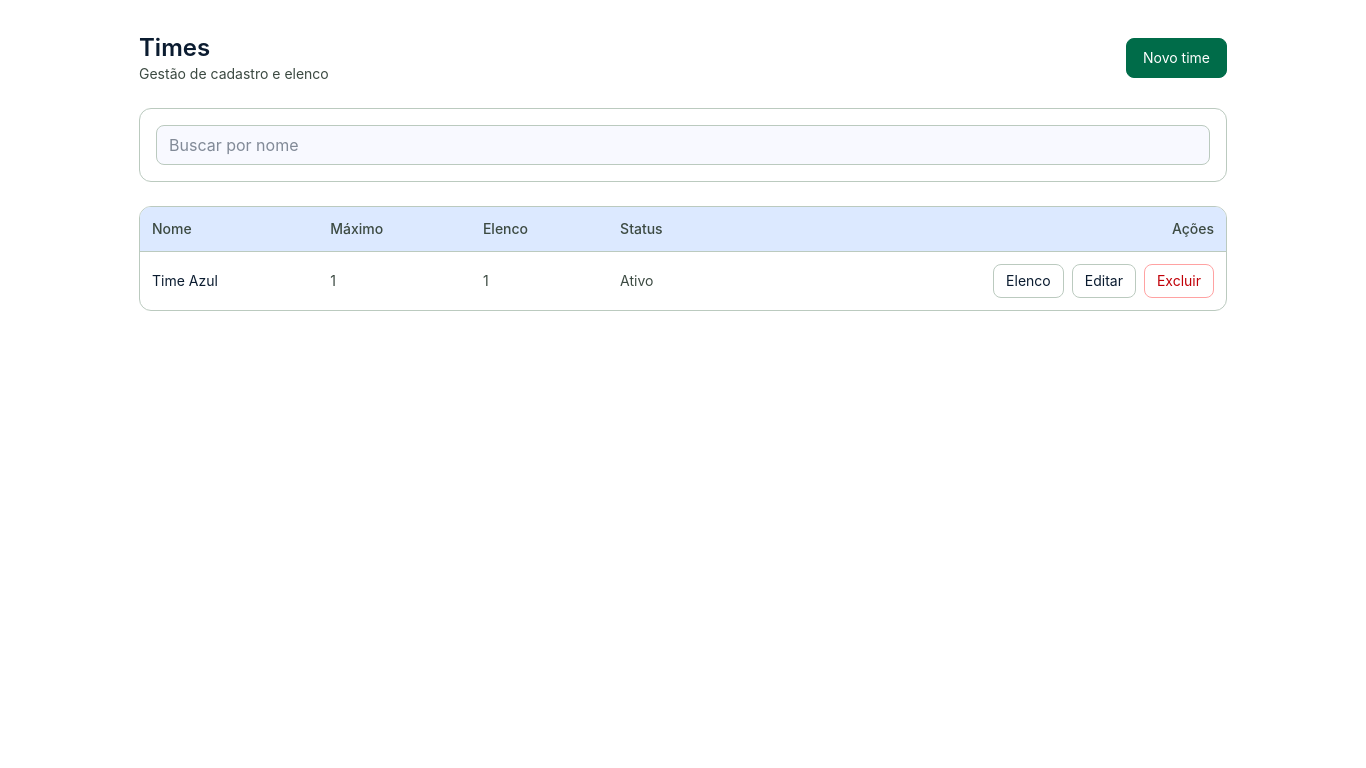
TeamsPage › deve bloquear salvamento do elenco acima do limite do time
Click the button "Elenco".
click(1028, 281)  # box left=993, top=264, right=1064, bottom=298
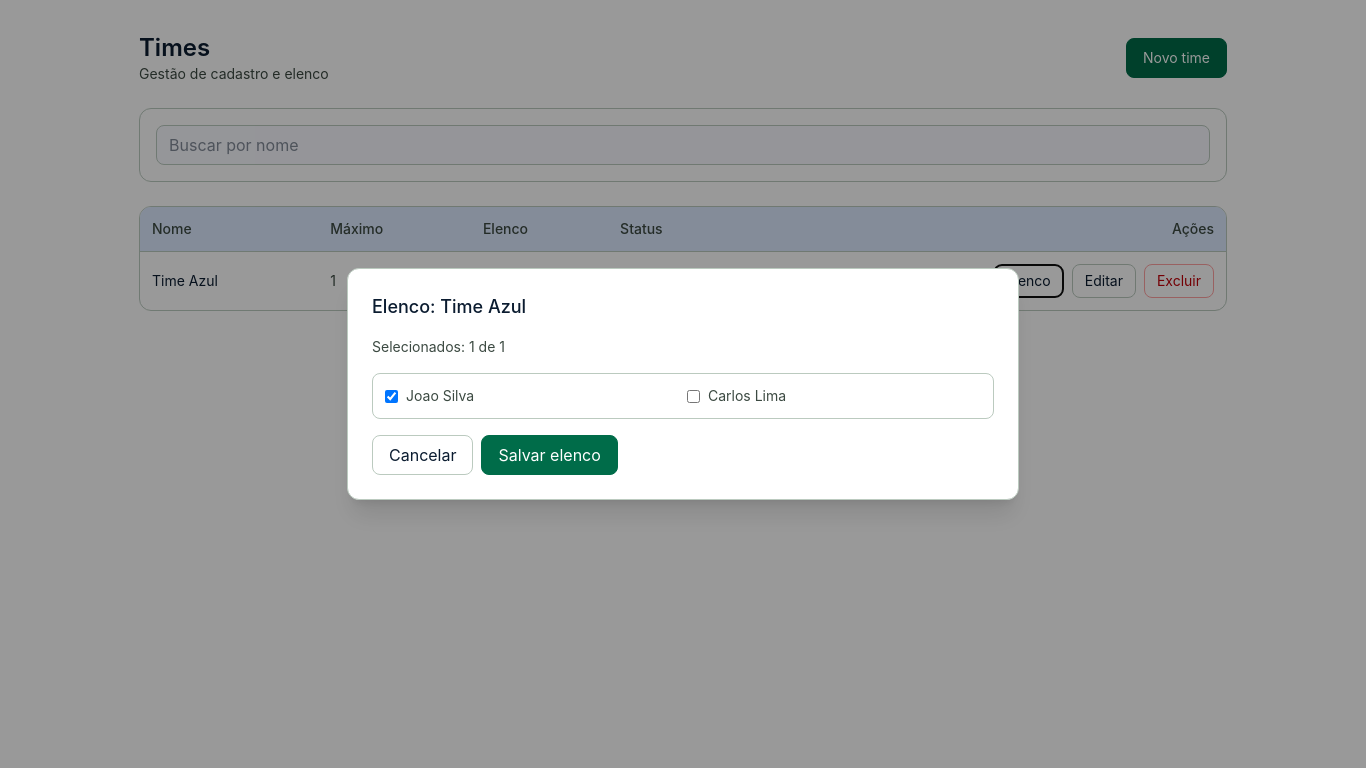
Click the checkbox labelled "Carlos Lima".
click(694, 396)  # box left=687, top=390, right=700, bottom=402
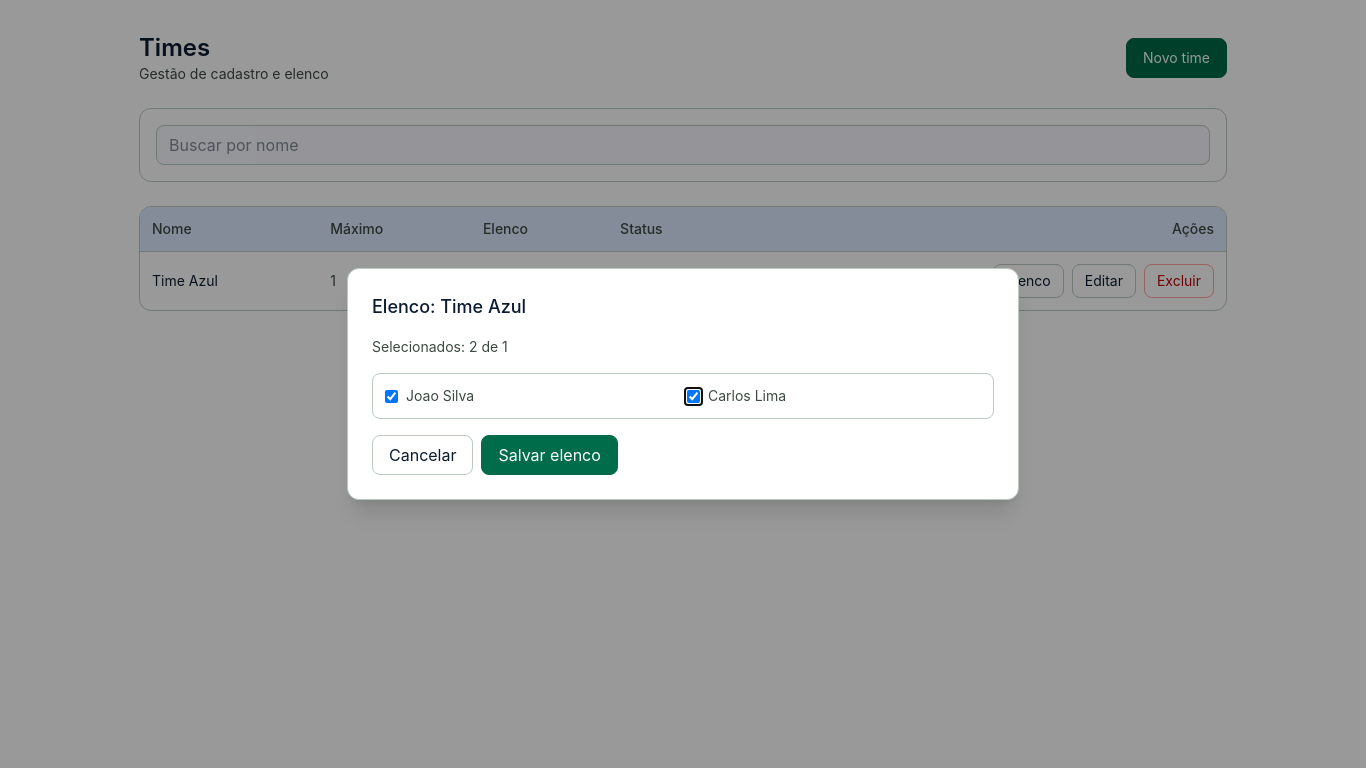
Click the button "Salvar elenco".
click(550, 455)  # box left=482, top=435, right=618, bottom=475
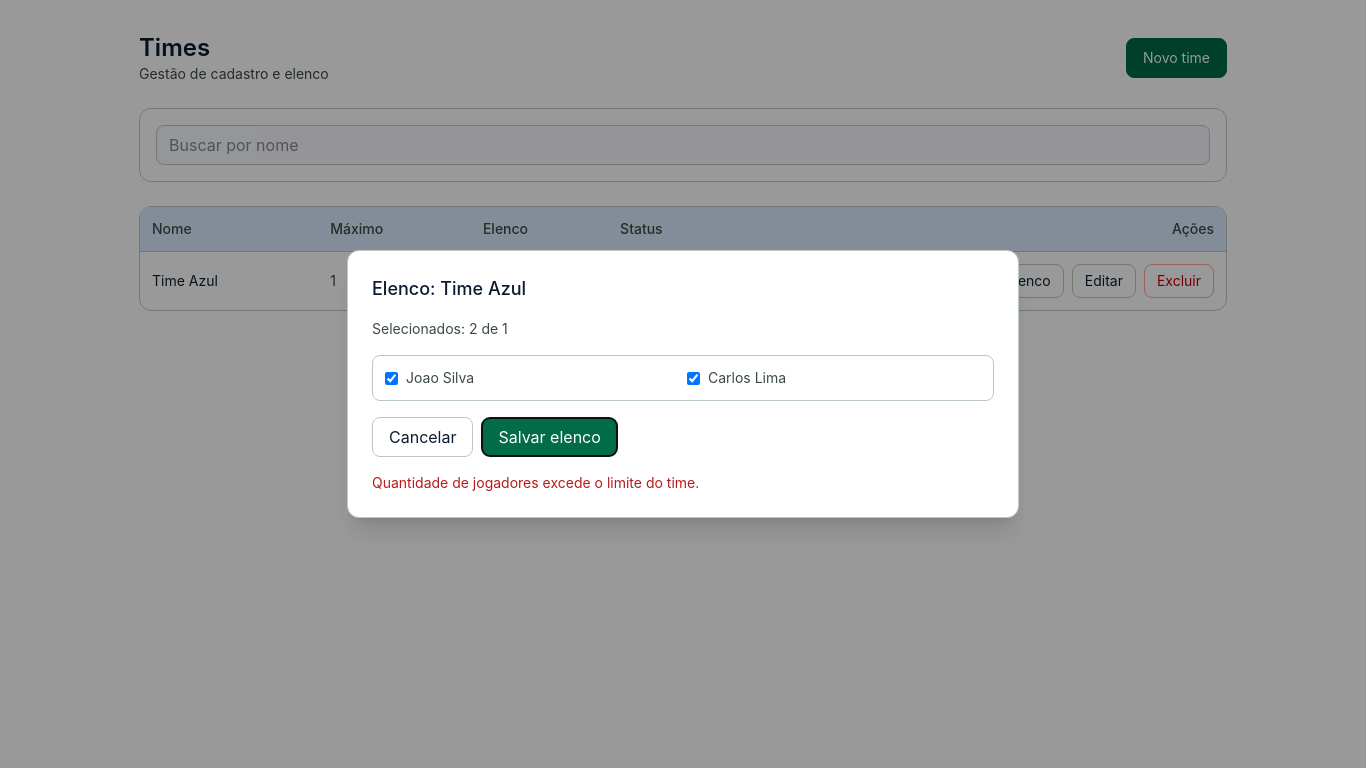
Expected: the text "Quantidade de jogadores excede o limite do time." is shown, left=372, top=474, right=699, bottom=491
